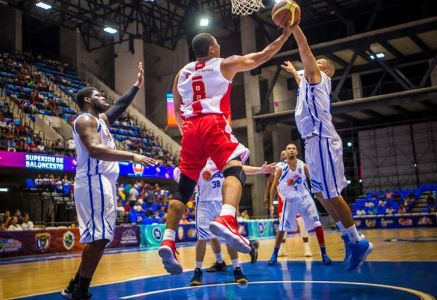baloncesto: (271, 1, 301, 27)
